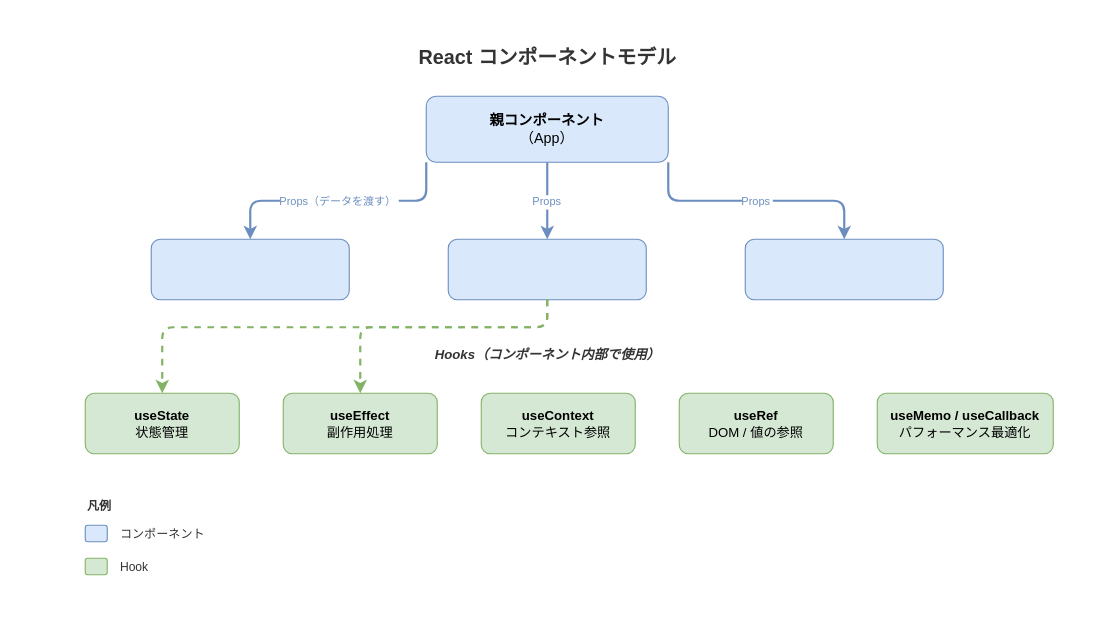
Image size: 1093x631. Some labels were removed from this diagram. The box of each missing label's shape, as (x1, y1, x2, y2) in pixels:
子コンポーネント A （Header）: (150, 238, 349, 300)
子コンポーネント B （Counter）: (447, 238, 646, 300)
子コンポーネント C （Footer）: (744, 238, 943, 300)
